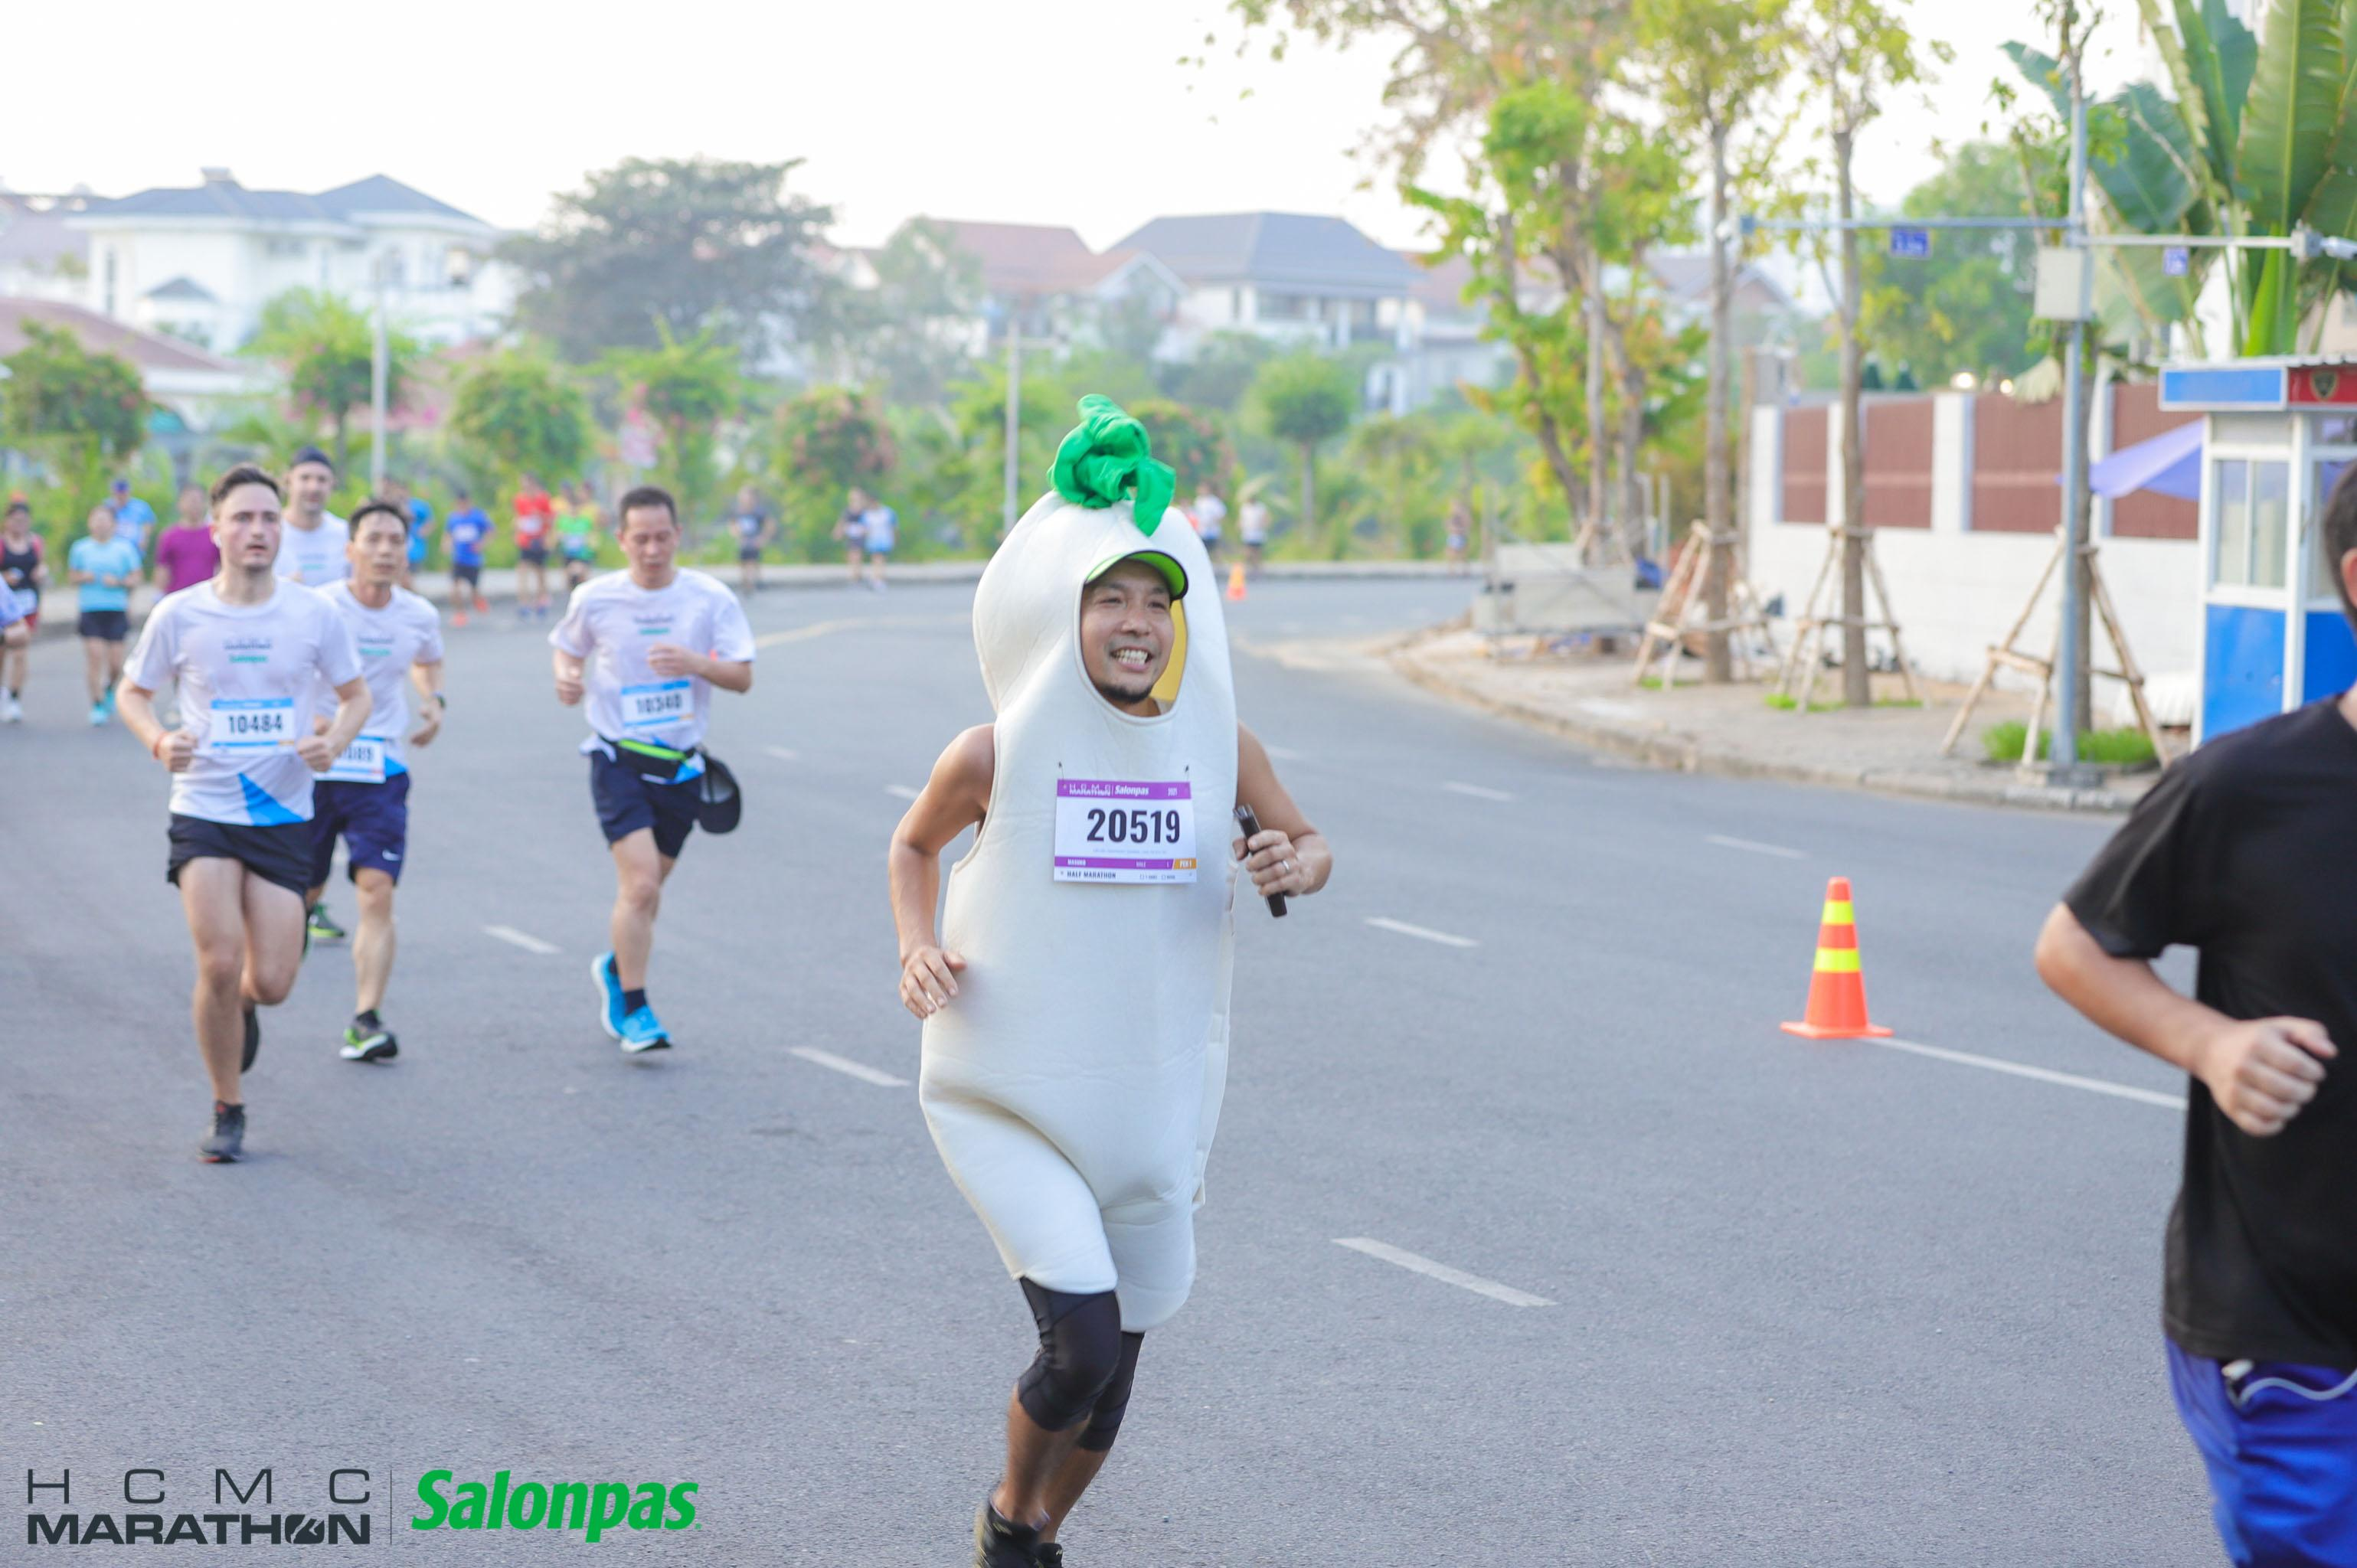bib: (1050, 779, 1192, 882), (210, 702, 297, 752), (311, 733, 385, 784), (619, 679, 691, 728)
